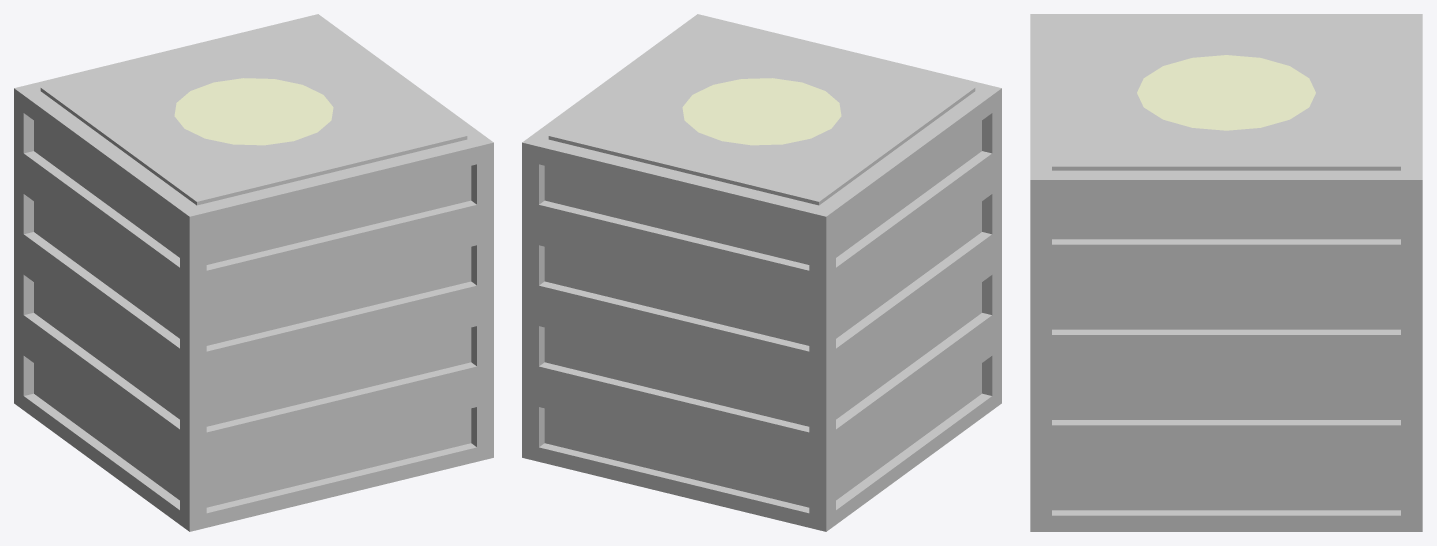
Rendered from infilament_storage.fbx.
The picture shows the model from 3 angles, left to right: view 1: azimuth 30°, elevation 25°; view 2: azimuth 150°, elevation 25°; view 3: azimuth 270°, elevation 25°; orthographic projection. The views are drawn at different scales.
Visible parts, largest first — view 1: storage, kapak; view 2: storage, kapak; view 3: storage, kapak.
Boxes of the visible parts, box(x1,y1,x2,y2) form: storage: box(14, 14, 493, 531); kapak: box(40, 21, 467, 205); storage: box(522, 14, 1001, 531); kapak: box(548, 21, 975, 205); storage: box(1030, 14, 1422, 531); kapak: box(1052, 19, 1400, 170).
Bounding box in the file's own units: 1 × 1 × 1.
